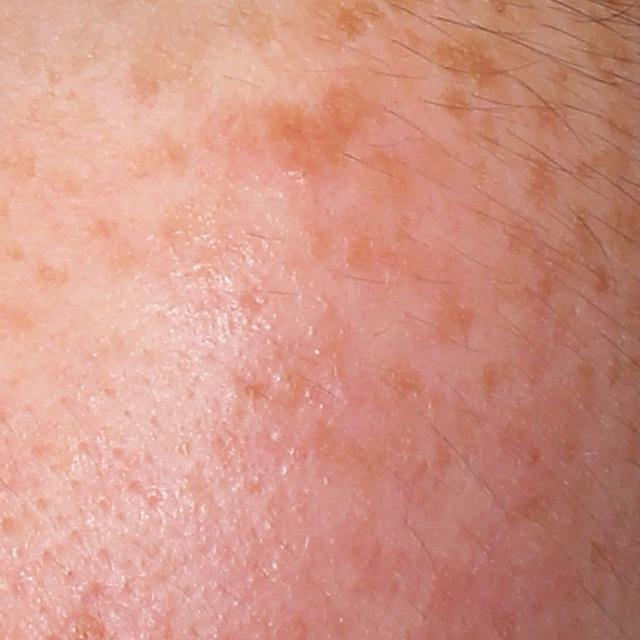melasma: (230, 81, 393, 203), (489, 205, 616, 315), (155, 182, 251, 289), (54, 213, 159, 287), (400, 27, 504, 95), (374, 356, 448, 429), (120, 126, 201, 182), (532, 64, 574, 150), (426, 286, 478, 353), (513, 152, 559, 213), (460, 105, 503, 163), (475, 357, 518, 409), (46, 166, 98, 201), (29, 255, 73, 293), (439, 83, 472, 125)
